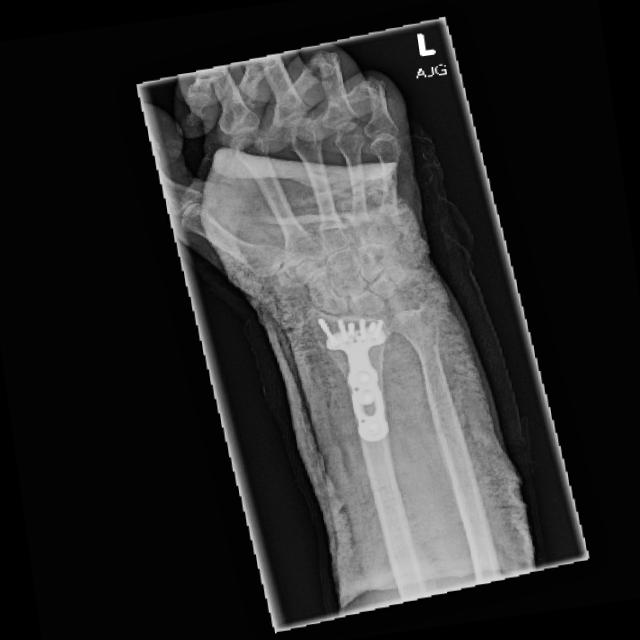fingers positive: (297, 307, 364, 364)
